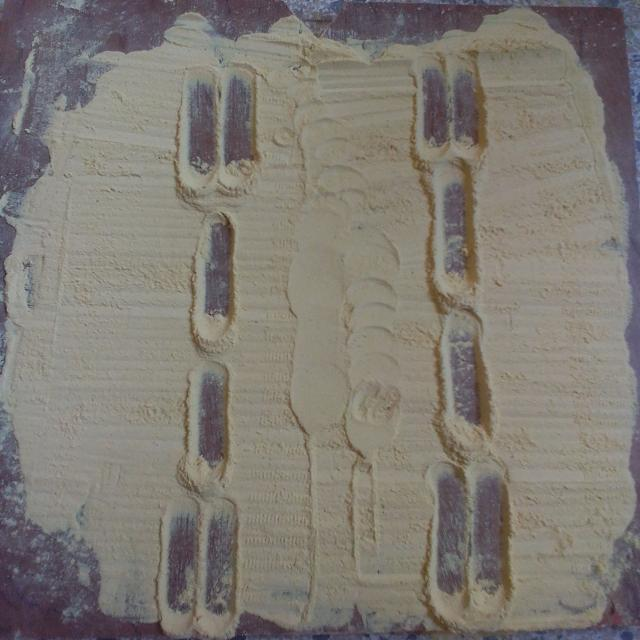double: (423, 461, 515, 594), (173, 63, 265, 174), (160, 493, 240, 617), (407, 58, 492, 148)
single: (436, 304, 492, 434), (426, 172, 484, 282), (191, 216, 242, 326), (182, 368, 235, 471)
